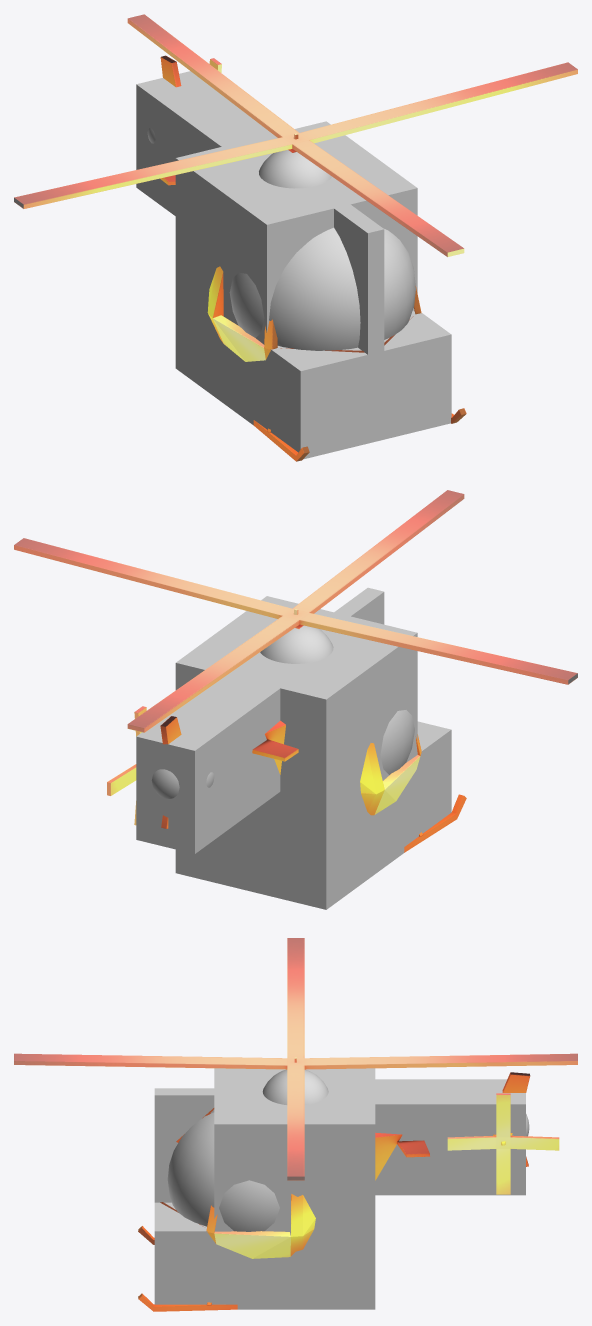
Rendered from heli.glb.
The picture shows the model from 3 angles, top to bottom: view 1: azimuth 30°, elevation 25°; view 2: azimuth 150°, elevation 25°; view 3: azimuth 270°, elevation 25°; orthographic projection. The views are drawn at different scales.
Parts seen in each view (by area): view 1: Cube.006, Cube.004, Sphere.007, Cube.008, Cube.007, Cube.005, Cube.001, Cube, Sphere.005, door_R; view 2: Cube.006, Cube.007, Cube.004, Cube, Cube.008, Sphere.005, Sphere.007, Cube.001, door_R, Sphere.004, Cube.002; view 3: Cube.006, Cube.007, Cube.004, Sphere.007, Cube.005, Cube, Cube.001, Cube.002, door_L, Sphere.005.
Part boxes in pixels (x1=…): Cube.006: x1=175, y1=121, x2=417, y2=428; Cube.004: x1=14, y1=14, x2=577, y2=256; Sphere.007: x1=229, y1=227, x2=415, y2=350; Cube.008: x1=267, y1=346, x2=367, y2=459; Cube.007: x1=136, y1=71, x2=272, y2=215; Cube.005: x1=384, y1=310, x2=451, y2=439; Cube.001: x1=334, y1=204, x2=384, y2=443; Cube: x1=160, y1=55, x2=466, y2=461; Sphere.005: x1=259, y1=150, x2=331, y2=188; door_R: x1=213, y1=315, x2=265, y2=361; Cube.006: x1=175, y1=596, x2=417, y2=909; Cube.007: x1=136, y1=675, x2=280, y2=853; Cube.004: x1=14, y1=490, x2=577, y2=732; Cube: x1=160, y1=609, x2=466, y2=852; Cube.008: x1=417, y1=721, x2=451, y2=836; Sphere.005: x1=260, y1=625, x2=333, y2=663; Sphere.007: x1=380, y1=710, x2=414, y2=774; Cube.001: x1=334, y1=587, x2=384, y2=624; door_R: x1=374, y1=755, x2=420, y2=814; Sphere.004: x1=151, y1=769, x2=214, y2=798; Cube.002: x1=107, y1=706, x2=146, y2=825; Cube.006: x1=214, y1=1068, x2=375, y2=1309; Cube.007: x1=375, y1=1079, x2=525, y2=1195; Cube.004: x1=14, y1=938, x2=577, y2=1180; Sphere.007: x1=167, y1=1112, x2=279, y2=1231; Cube.005: x1=154, y1=1202, x2=214, y2=1304; Cube: x1=138, y1=1057, x2=530, y2=1311; Cube.001: x1=154, y1=1088, x2=214, y2=1202; Cube.002: x1=447, y1=1093, x2=559, y2=1194; door_L: x1=214, y1=1231, x2=290, y2=1258; Sphere.005: x1=262, y1=1069, x2=328, y2=1104.
Size of the model in its own units: 3.92 by 1.69 by 3.92.
Materials: 2 (2 with a texture image).
